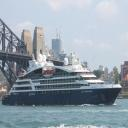cruises: (3, 51, 124, 107)
